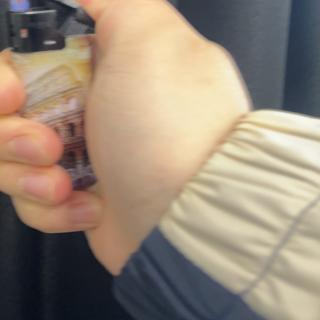fire: (6, 0, 30, 12)
